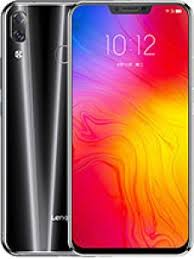lenovo: (2, 1, 190, 255)
